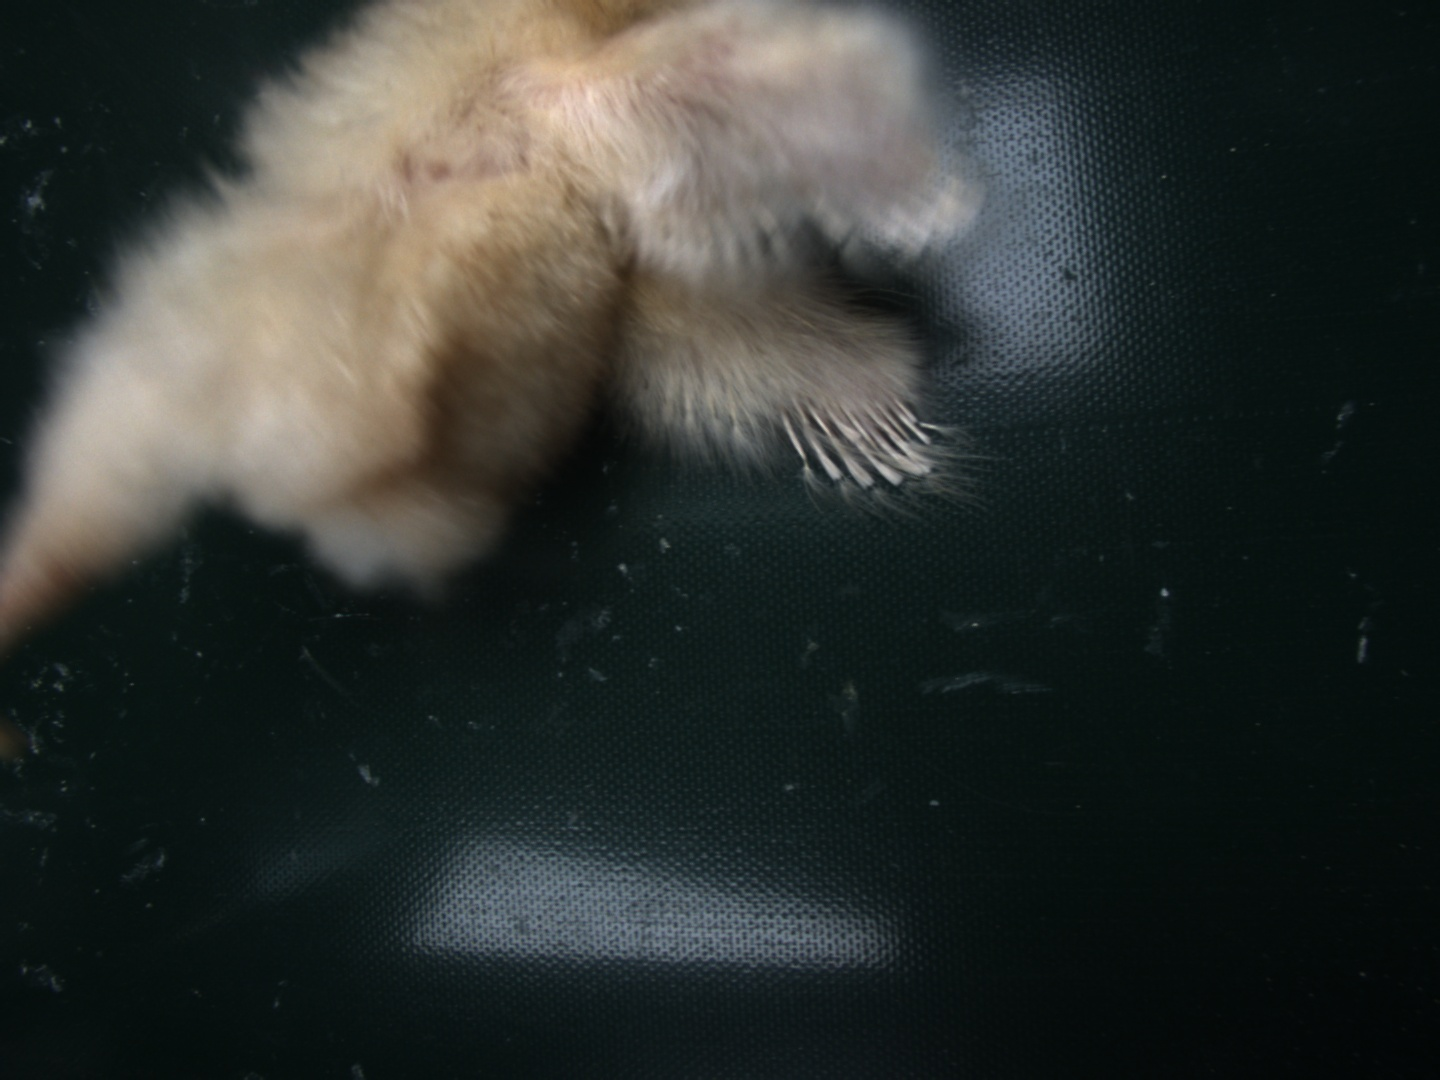female: (773, 388, 948, 491)
